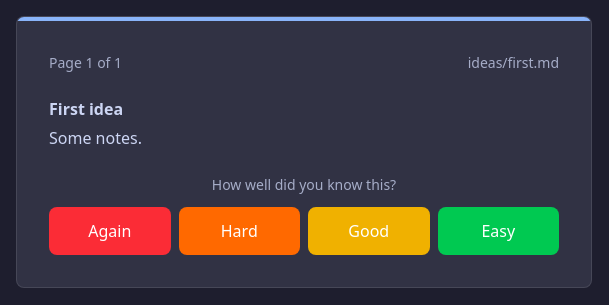
Test: NotebookReviewSession › refetches and advances after a rating
expect the heading "First idea" is shown: met, box [49,98,123,120]
Click the button "Good" at (369, 231), box [308,207,430,255]
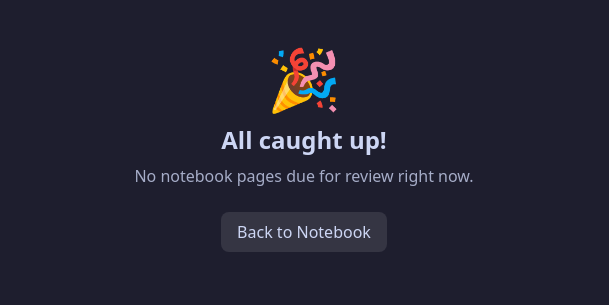
expect the text "All caught up!" is shown: met, box [221,123,387,156]
